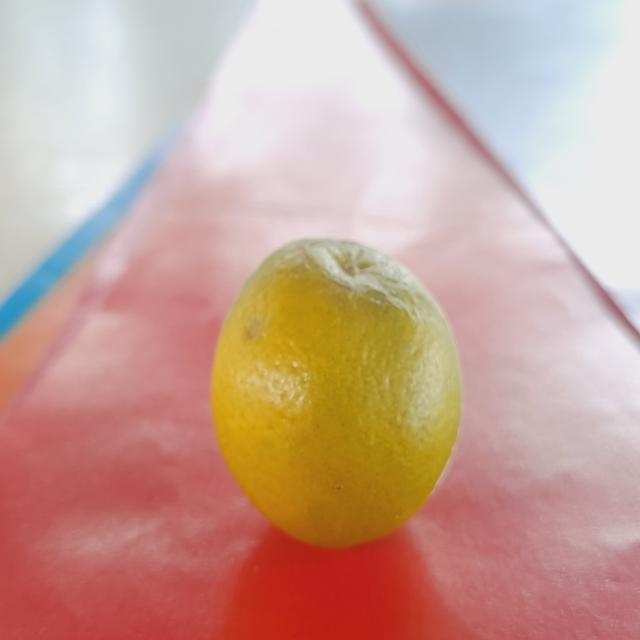greening: (186, 207, 490, 572)
